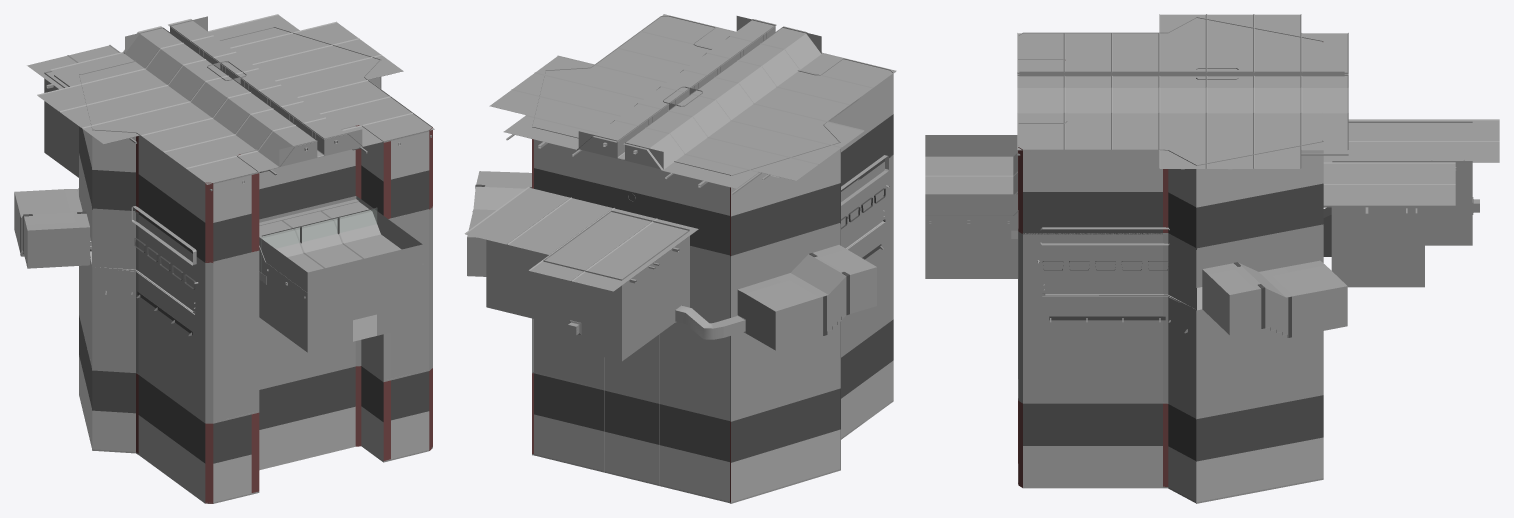
Rendered from Cryolab2.fbx.
The picture shows the model from 3 angles, left to right: view 1: azimuth 30°, elevation 25°; view 2: azimuth 150°, elevation 25°; view 3: azimuth 270°, elevation 25°; orthographic projection. The views are drawn at different scales.
Visible parts, largest first — view 1: walls (×2), roof, Hall, roof_center_beam, wall_panel143 (×3), wall_panel139 (×2), wall_panel142 (×2), roof_panel2_UV2, roof_panel2_UV3, wall_panel140 (×2), left4, right2 (+40 smaller); view 2: walls (×2), roof, Hall (×2), roof_panel2_UV7 (×2), roof_panel2_UV4 (×2), roof_center_beam, roof_panel2_UV6 (×2), roof_panel2_UV5 (×2), wall_panel174, wall_panel64, wall_panel149, wall_panel63 (+37 smaller); view 3: walls (×2), roof, Hall, roof_panel2_UV4 (×2), roof_panel2_UV7 (×2), wall_panel143 (×2), roof_panel2_UV6 (×2), roof_panel2_UV5 (×2), wall_panel23, wall_panel19, wall_panel27, wall_panel144 (+39 smaller).
Part boxes in pixels (box(x1,y1,x2,y2)): walls (×2): box(79, 59, 432, 503); roof: box(37, 14, 434, 191); Hall: box(14, 189, 89, 268); roof_center_beam: box(124, 16, 362, 166); wall_panel143 (×3): box(263, 212, 400, 303); wall_panel139 (×2): box(285, 284, 422, 352); wall_panel142 (×2): box(285, 244, 422, 312); roof_panel2_UV2: box(283, 210, 363, 267); roof_panel2_UV3: box(322, 202, 423, 264); wall_panel140 (×2): box(263, 282, 384, 343); left4: box(205, 248, 432, 423); right2: box(251, 252, 390, 412); walls (×2): box(532, 27, 893, 503); roof: box(489, 14, 896, 195); Hall (×2): box(467, 171, 876, 350); roof_panel2_UV7 (×2): box(529, 197, 698, 265); roof_panel2_UV4 (×2): box(486, 187, 655, 249); roof_center_beam: box(578, 16, 821, 170); roof_panel2_UV6 (×2): box(507, 228, 656, 291); roof_panel2_UV5 (×2): box(464, 218, 613, 280); wall_panel174: box(486, 266, 525, 316); wall_panel64: box(690, 247, 729, 297); wall_panel149: box(582, 311, 621, 361); wall_panel63: box(690, 370, 729, 419); walls (×2): box(1018, 17, 1323, 503); roof: box(1017, 14, 1348, 169); Hall: box(1202, 260, 1347, 337); roof_panel2_UV4 (×2): box(1323, 141, 1411, 213); roof_panel2_UV7 (×2): box(1323, 119, 1411, 183); wall_panel143 (×2): box(972, 135, 1017, 236); roof_panel2_UV6 (×2): box(1411, 119, 1499, 183); roof_panel2_UV5 (×2): box(1411, 141, 1499, 213); wall_panel23: box(1069, 361, 1116, 403); wall_panel19: box(1023, 361, 1069, 403); wall_panel27: box(1116, 361, 1162, 403); wall_panel144: box(925, 194, 971, 236).
Bounding box in the file's own units: 162 × 136 × 197.
